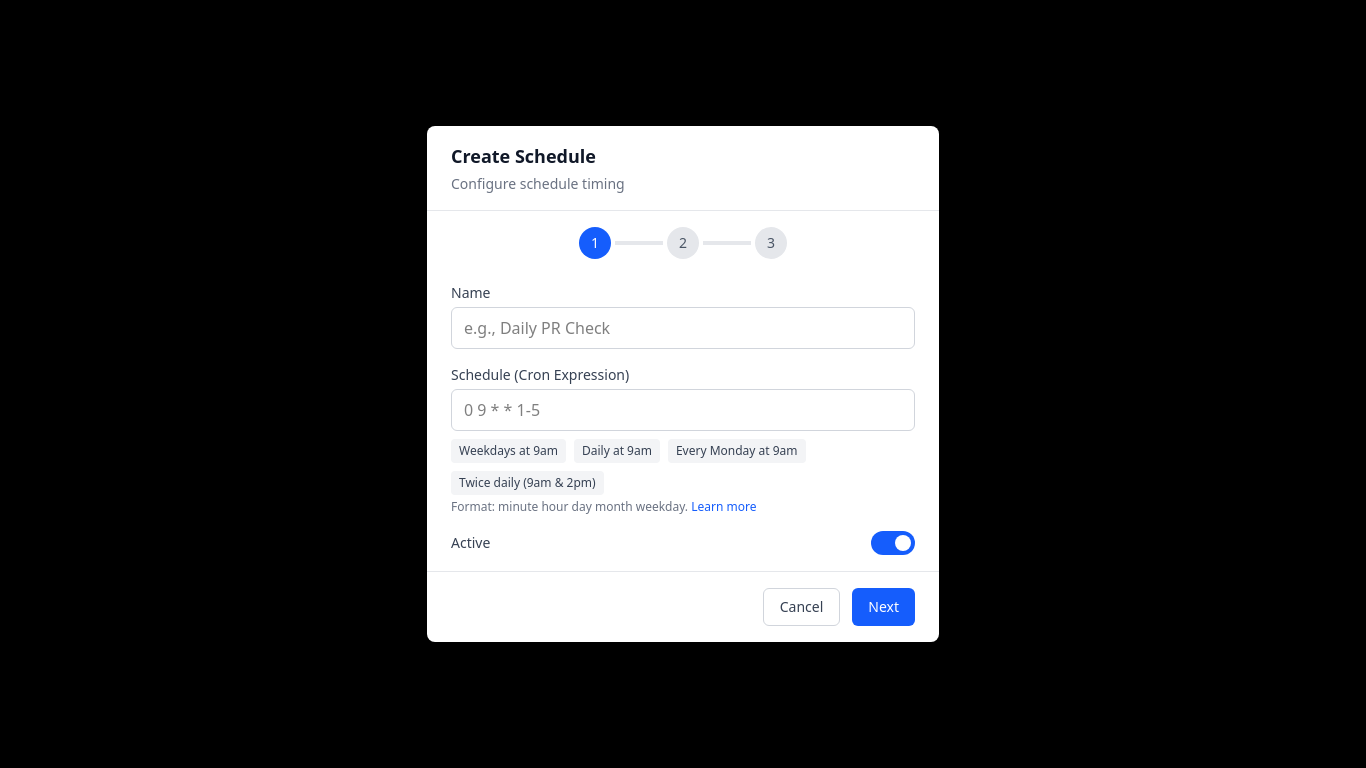
Test case: ScheduleForm › Step 1: Schedule Details › validates required fields before moving to step 2
Click the button "Next". click: (884, 607)
box: x1=852 y1=588 x2=915 y2=626
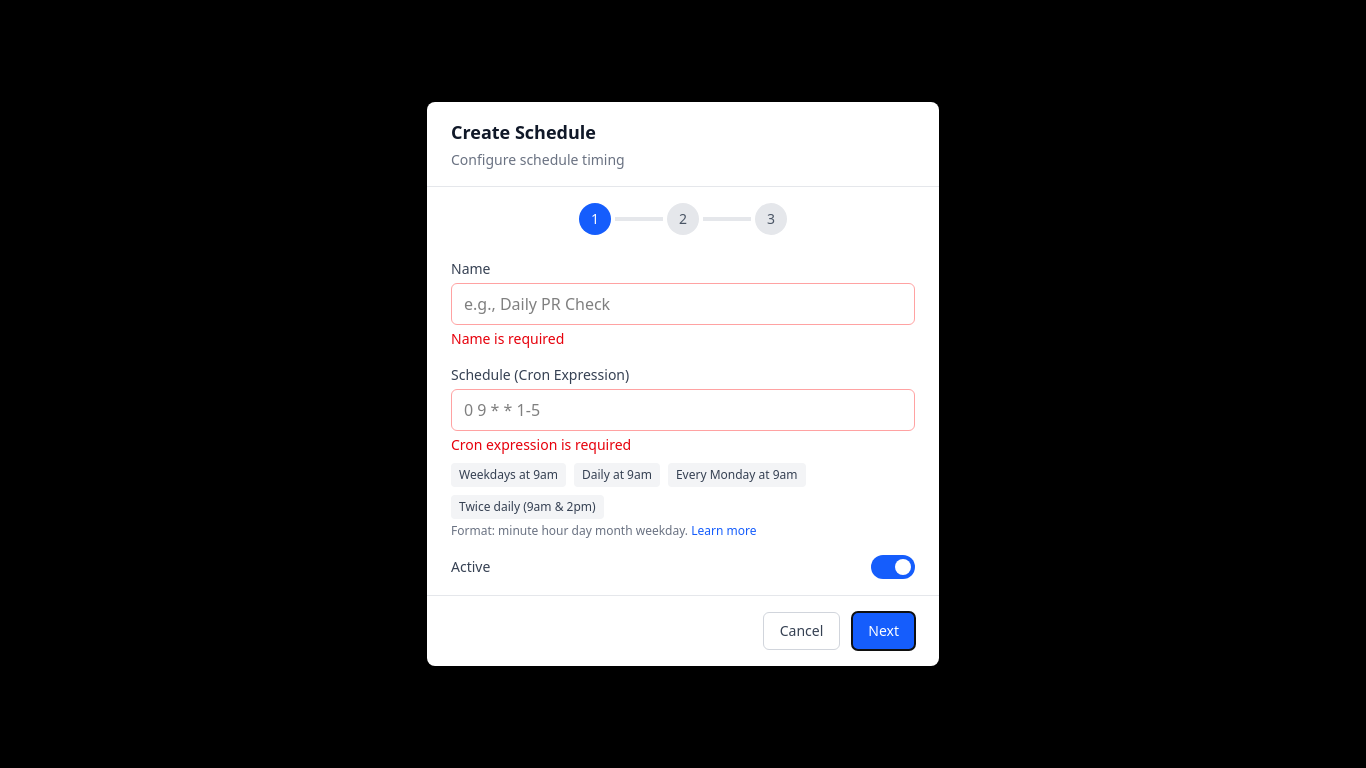
Result: the text "Name is required" is shown at x1=451 y1=329 x2=564 y2=348
Result: the text "Cron expression is required" is shown at x1=451 y1=435 x2=631 y2=454
